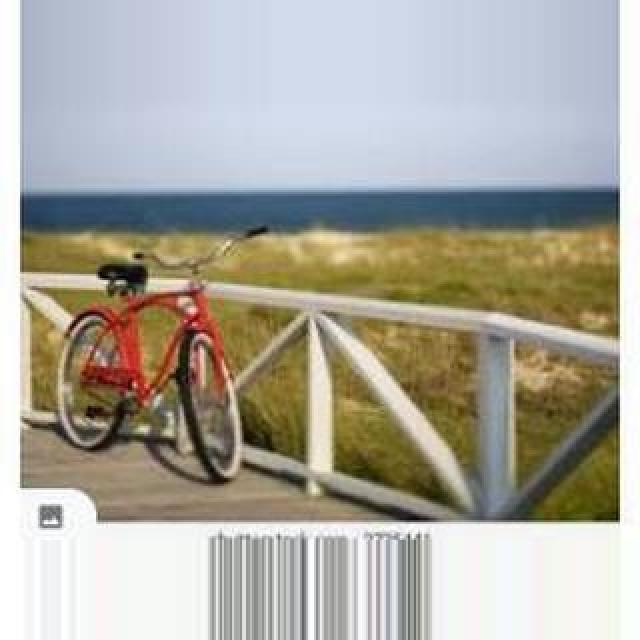Person: (51, 224, 273, 486)
